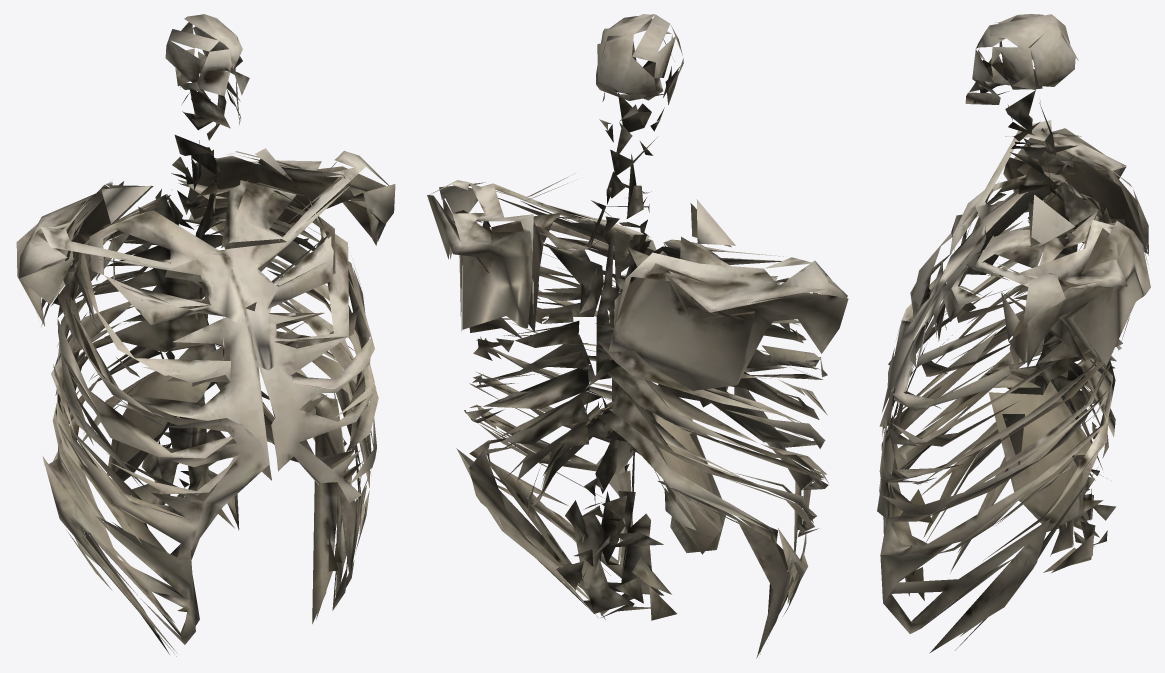
File: dre_small_bone_pile.glb
3 renders of one model, left to right at view 1: azimuth 30°, elevation 25°; view 2: azimuth 150°, elevation 25°; view 3: azimuth 270°, elevation 25°, orthographic. The views are drawn at different scales.
Size of the model in its own units: 0.4982 by 0.7405 by 0.3029.
Materials: 1 (1 with a texture image).
